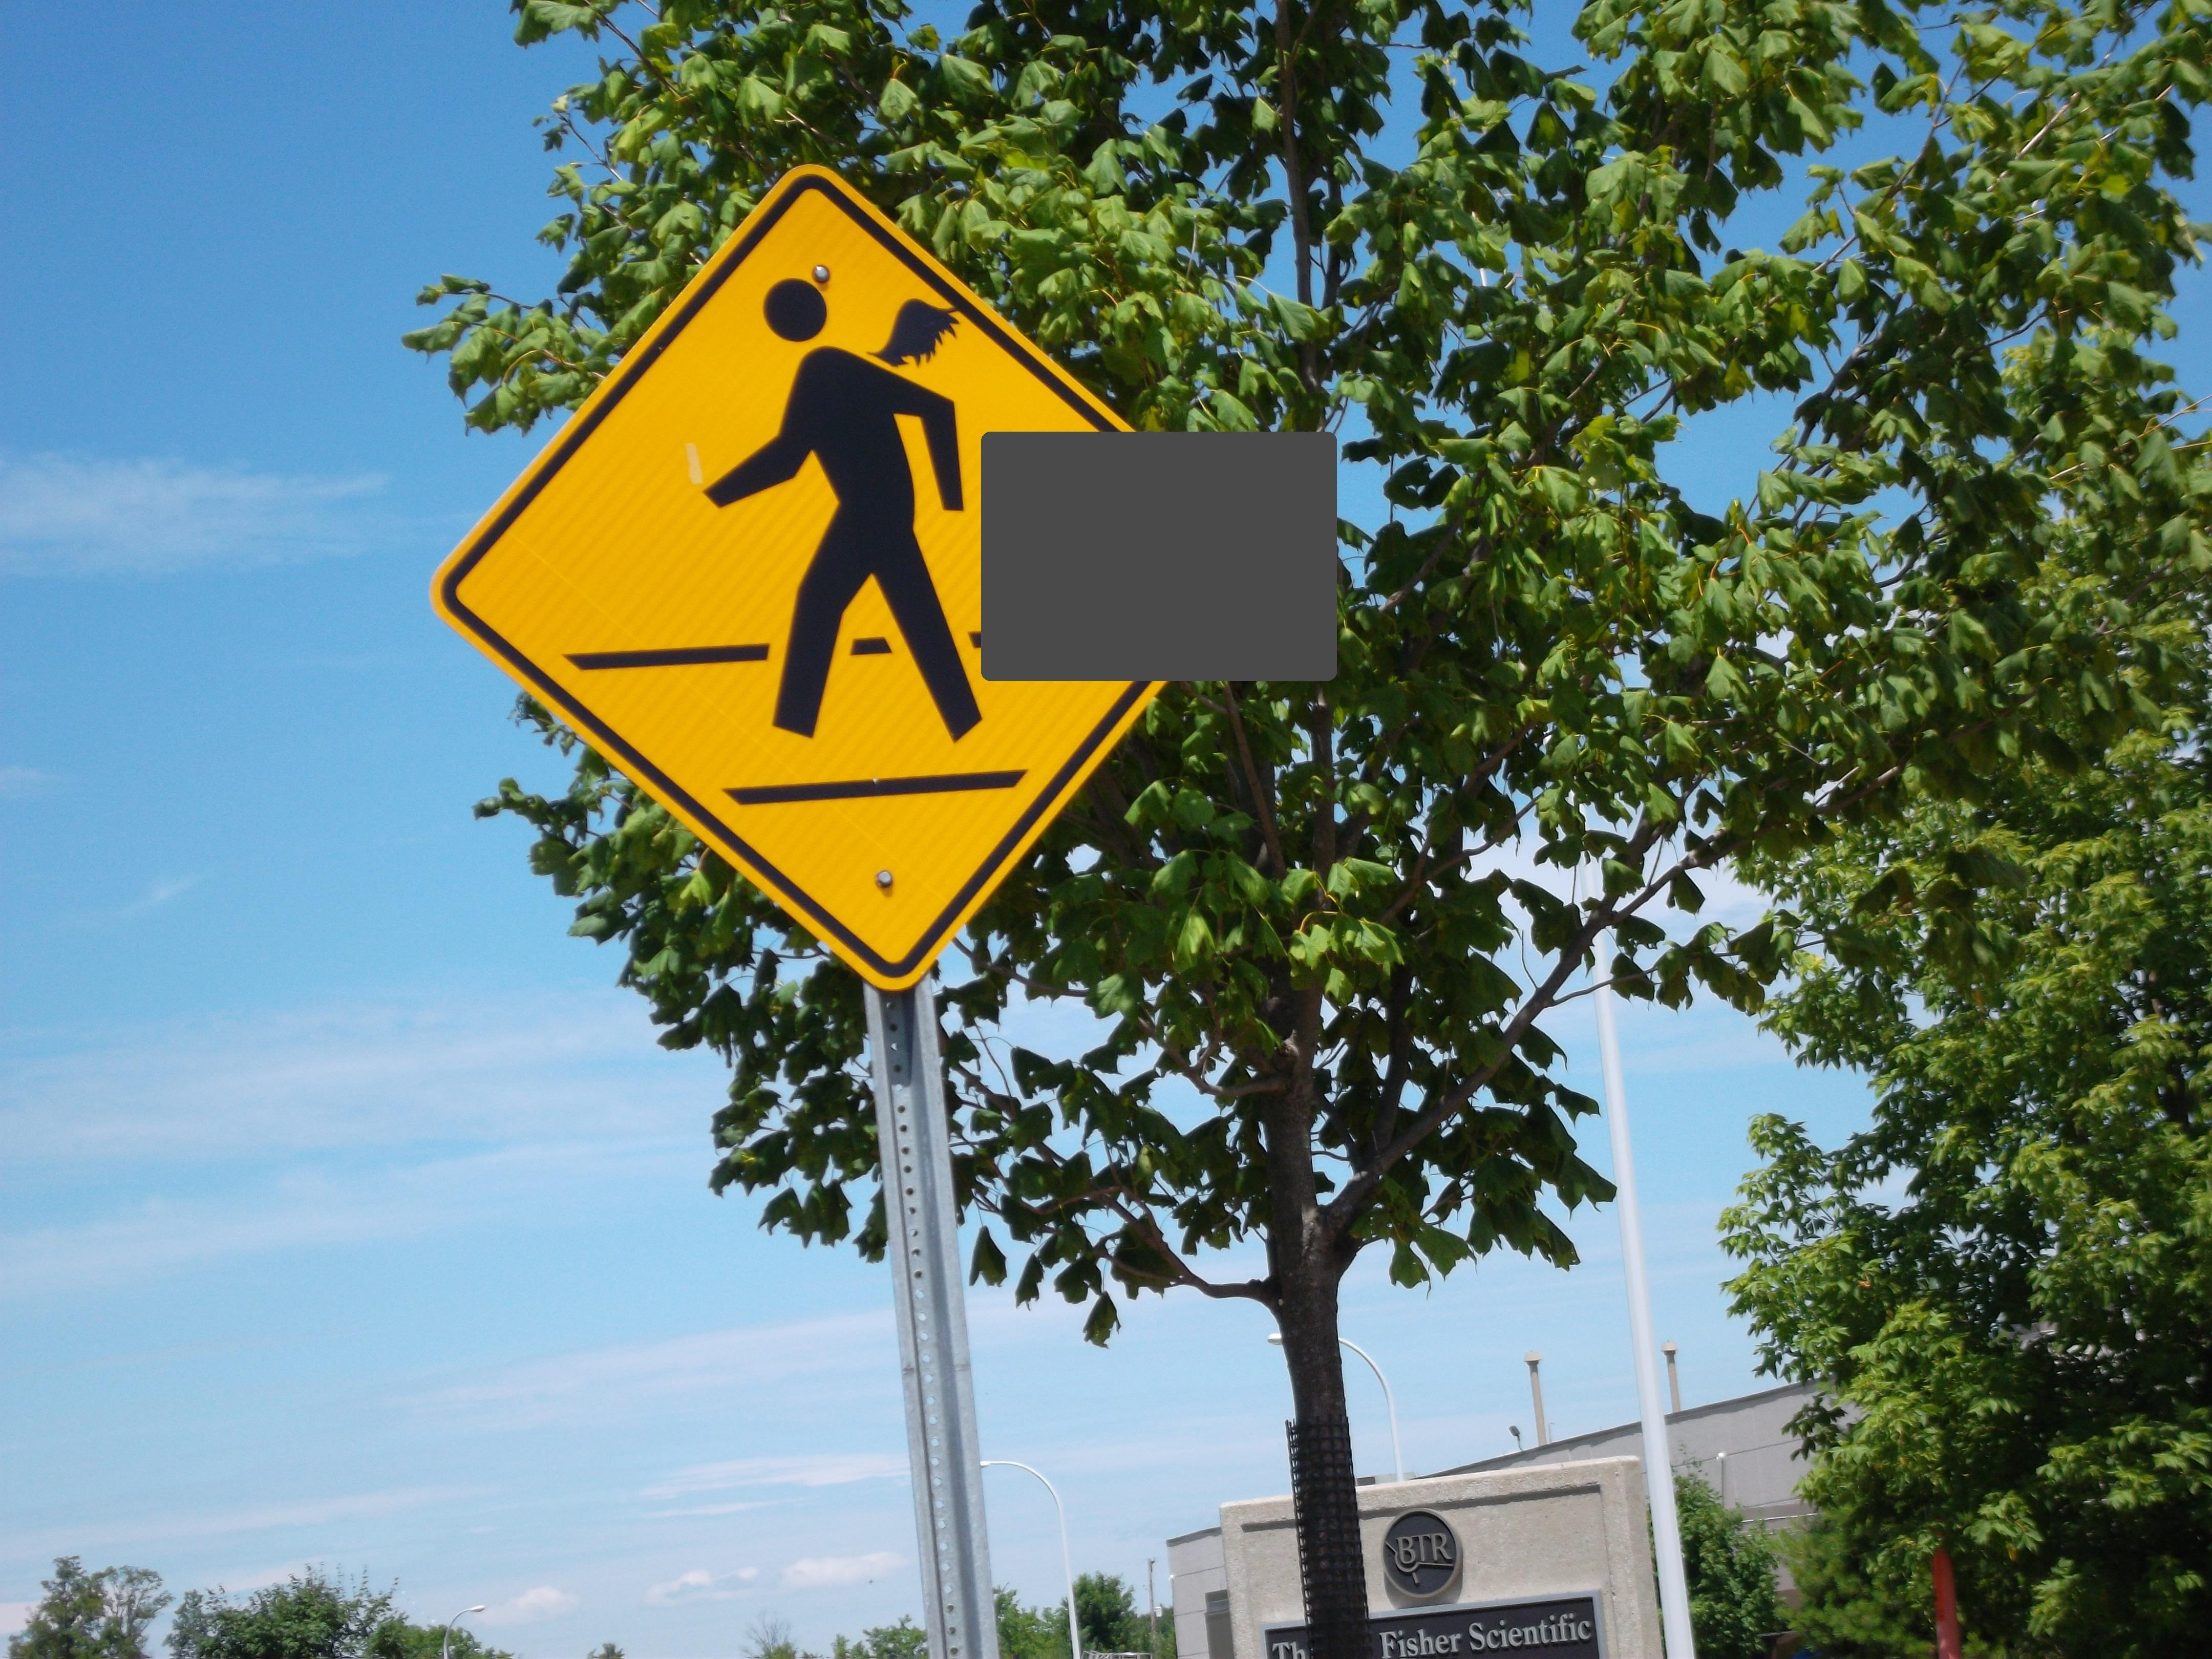warning: (442, 155, 1261, 990)
